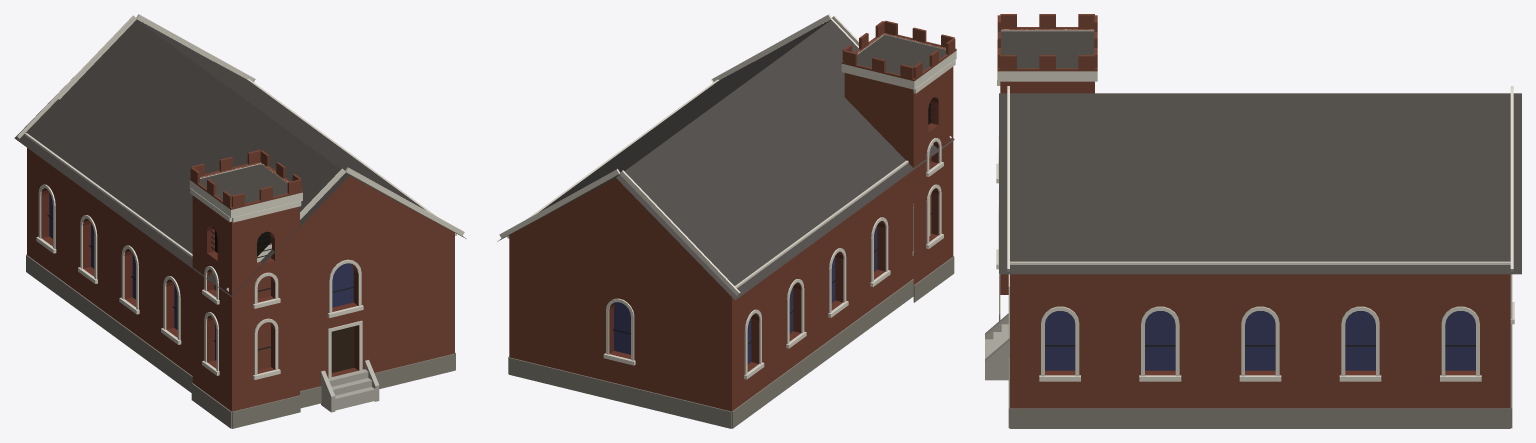
File: ch-wright-avenue-christian-1961.glb
3 renders of one model, left to right at view 1: azimuth 30°, elevation 25°; view 2: azimuth 150°, elevation 25°; view 3: azimuth 270°, elevation 25°, orthographic. The views are drawn at different scales.
Visible parts, largest first — view 1: ch_brick, ch_roof, ch_trim, ch_base, ch_brick2, ch_conc, ch_roof2, ch_stain, ch_door; view 2: ch_brick, ch_roof, ch_trim, ch_base, ch_brick2, ch_roof2, ch_stain; view 3: ch_roof, ch_brick, ch_base, ch_trim, ch_stain, ch_roof2, ch_conc, ch_brick2.
Boxes of the visible parts, box(x1,y1,x2,y2) form: ch_brick: box(27, 148, 454, 411); ch_roof: box(14, 19, 466, 296); ch_trim: box(17, 14, 464, 379); ch_base: box(26, 254, 455, 428); ch_brick2: box(41, 188, 358, 376); ch_conc: box(321, 360, 379, 412); ch_roof2: box(200, 164, 287, 203); ch_stain: box(49, 192, 353, 360); ch_door: box(331, 326, 354, 372); ch_brick: box(509, 20, 956, 411); ch_roof: box(497, 19, 954, 300); ch_trim: box(499, 14, 956, 379); ch_base: box(508, 256, 954, 428); ch_brick2: box(609, 96, 938, 371); ch_roof2: box(857, 35, 945, 74); ch_stain: box(614, 225, 877, 363); ch_roof: box(999, 93, 1521, 274); ch_brick: box(997, 14, 1510, 408); ch_base: box(999, 274, 1512, 428); ch_trim: box(996, 29, 1514, 381); ch_stain: box(1045, 311, 1475, 370); ch_roof2: box(1001, 31, 1094, 68); ch_conc: box(985, 313, 1009, 380); ch_brick2: box(1045, 370, 1475, 375).
Bounding box in the file's own units: 11.92 × 11.2 × 19.3.
